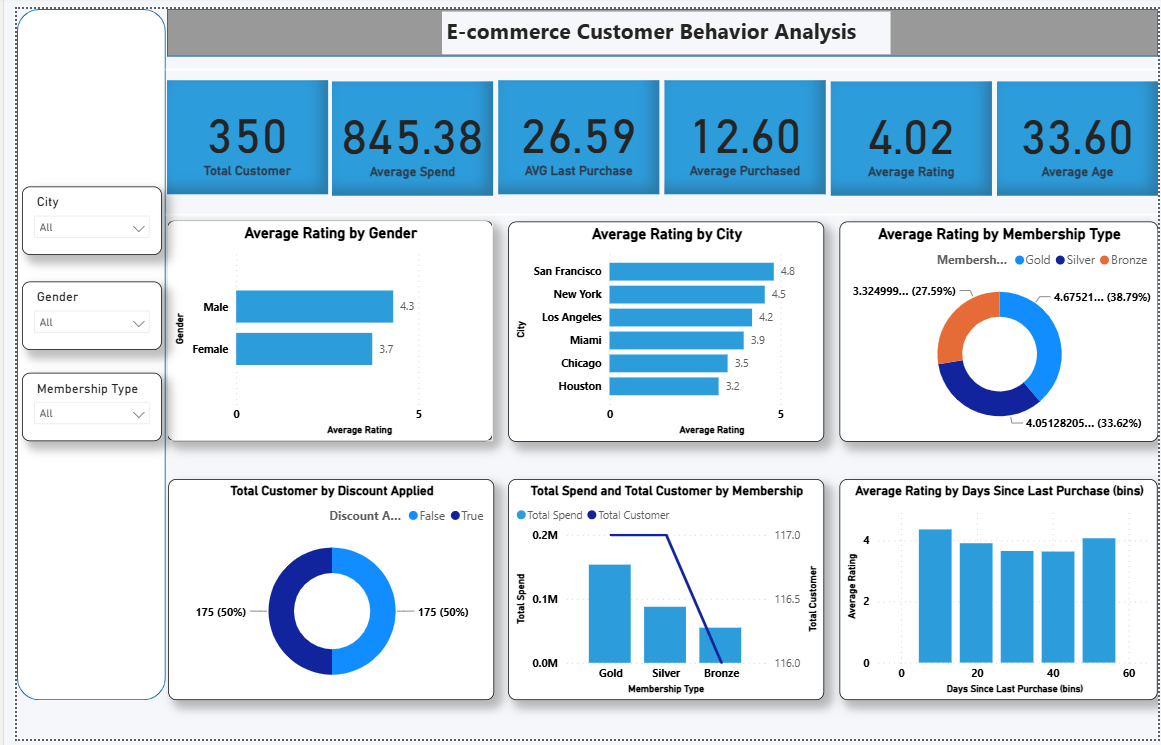

This screenshot's page, from the dashboard's own definition file:
{"tool":"powerbi","page":{"name":"Page 1","canvas":[1280,820],"ordinal":0},"visuals":[{"type":"shape","box":[168.3,0,1112,53.3],"z":0},{"type":"textbox","box":[476.8,2.8,503.4,47.7],"z":1000},{"type":"shape","box":[0,0,166.9,775.5],"z":2000},{"type":"card","fields":{"Values":["measure.Total Customer"]},"box":[168.3,79.9,180.9,127.6],"z":3000},{"type":"shape","box":[166.9,61.7,1113.4,12.6],"z":4000},{"type":"card","fields":{"Values":["measure.Avg Total Spend"]},"box":[353.4,81.3,180.9,127.6],"z":5000},{"type":"card","fields":{"Values":["measure.AVG Last Purchase"]},"box":[539.9,79.9,180.9,127.6],"z":6000},{"type":"card","fields":{"Values":["measure.Average Purchased"]},"box":[726.4,79.9,180.9,127.6],"z":7000},{"type":"card","fields":{"Values":["measure.Average Rating"]},"box":[912.9,81.3,180.9,127.6],"z":8000},{"type":"card","fields":{"Values":["measure.Average Age"]},"box":[1099.4,81.3,180.9,127.6],"z":9000},{"type":"shape","box":[166.6,224.4,1113.4,12.6],"z":10000},{"type":"clusteredBarChart","fields":{"Category":["E-commerce Customer Behavior - Sheet1.Gender"],"Y":["measure.Average Rating"]},"box":[168.3,237,366,248.2],"z":11000},{"type":"barChart","fields":{"Category":["E-commerce Customer Behavior - Sheet1.City"],"Y":["measure.Average Rating"]},"box":[558.1,238.4,354.8,246.8],"z":12000},{"type":"donutChart","fields":{"Category":["E-commerce Customer Behavior - Sheet1.Membership Type"],"Y":["measure.Average Rating"]},"box":[922.7,238.4,357.6,246.8],"z":13000},{"type":"donutChart","fields":{"Y":["measure.Total Customer"],"Category":["E-commerce Customer Behavior - Sheet1.Discount Applied"]},"box":[169.7,527.3,366,248.2],"z":14000},{"type":"lineClusteredColumnComboChart","title":"Total Spend and Total Customer by Membership ","fields":{"Category":["E-commerce Customer Behavior - Sheet1.Membership Type"],"Y":["Sum(E-commerce Customer Behavior - Sheet1.Total Spend)"],"Y2":["measure.Total Customer"]},"box":[558,527,355,248],"z":15000},{"type":"clusteredColumnChart","fields":{"Category":["E-commerce Customer Behavior - Sheet1.Days Since Last Purchase (bins)"],"Y":["measure.Average Rating"]},"box":[923,527,357,248],"z":16000},{"type":"slicer","fields":{"Values":["E-commerce Customer Behavior - Sheet1.Gender"]},"box":[5.6,305.7,157.1,77.1],"z":17000},{"type":"slicer","fields":{"Values":["E-commerce Customer Behavior - Sheet1.City"]},"box":[5.6,199.1,157.1,77.1],"z":18000},{"type":"slicer","fields":{"Values":["E-commerce Customer Behavior - Sheet1.Membership Type"]},"box":[5.6,408.1,157.1,77.1],"z":19000},{"type":"image","box":[0,0,166.9,199.1],"z":20000}]}

Visuals, with their boxes in screenshot pixels (x1, y1, x2, y2), scaled from the page's 1280x820 canvas onto the 1161x745 screenshot:
shape: 153:0:1160:48
textbox: 432:3:889:46
shape: 0:0:151:705
card - measure.Total Customer: 153:73:317:189
shape: 151:56:1160:68
card - measure.Avg Total Spend: 321:74:485:190
card - measure.AVG Last Purchase: 490:73:654:189
card - measure.Average Purchased: 659:73:823:189
card - measure.Average Rating: 828:74:992:190
card - measure.Average Age: 997:74:1160:190
shape: 151:204:1160:215
clusteredBarChart - E-commerce Customer Behavior - Sheet1.Gender x measure.Average Rating: 153:215:485:441
barChart - E-commerce Customer Behavior - Sheet1.City x measure.Average Rating: 506:217:828:441
donutChart - E-commerce Customer Behavior - Sheet1.Membership Type x measure.Average Rating: 837:217:1160:441
donutChart - measure.Total Customer x E-commerce Customer Behavior - Sheet1.Discount Applied: 154:479:486:705
"Total Spend and Total Customer by Membership " lineClusteredColumnComboChart: 506:479:828:704
clusteredColumnChart - E-commerce Customer Behavior - Sheet1.Days Since Last Purchase (bins) x measure.Average Rating: 837:479:1160:704
slicer - E-commerce Customer Behavior - Sheet1.Gender: 5:278:148:348
slicer - E-commerce Customer Behavior - Sheet1.City: 5:181:148:251
slicer - E-commerce Customer Behavior - Sheet1.Membership Type: 5:371:148:441
image: 0:0:151:181
